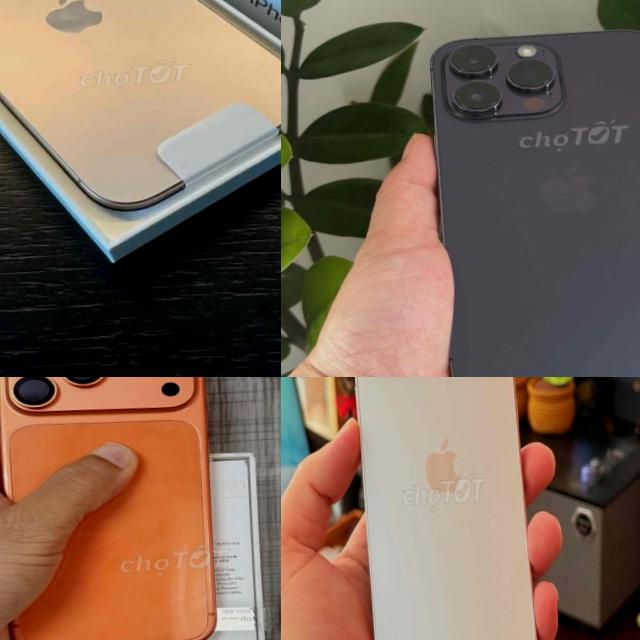scratch: (565, 363, 601, 377)
